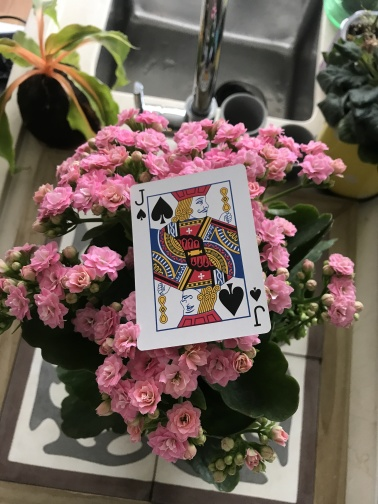jack: (128, 163, 272, 352)
